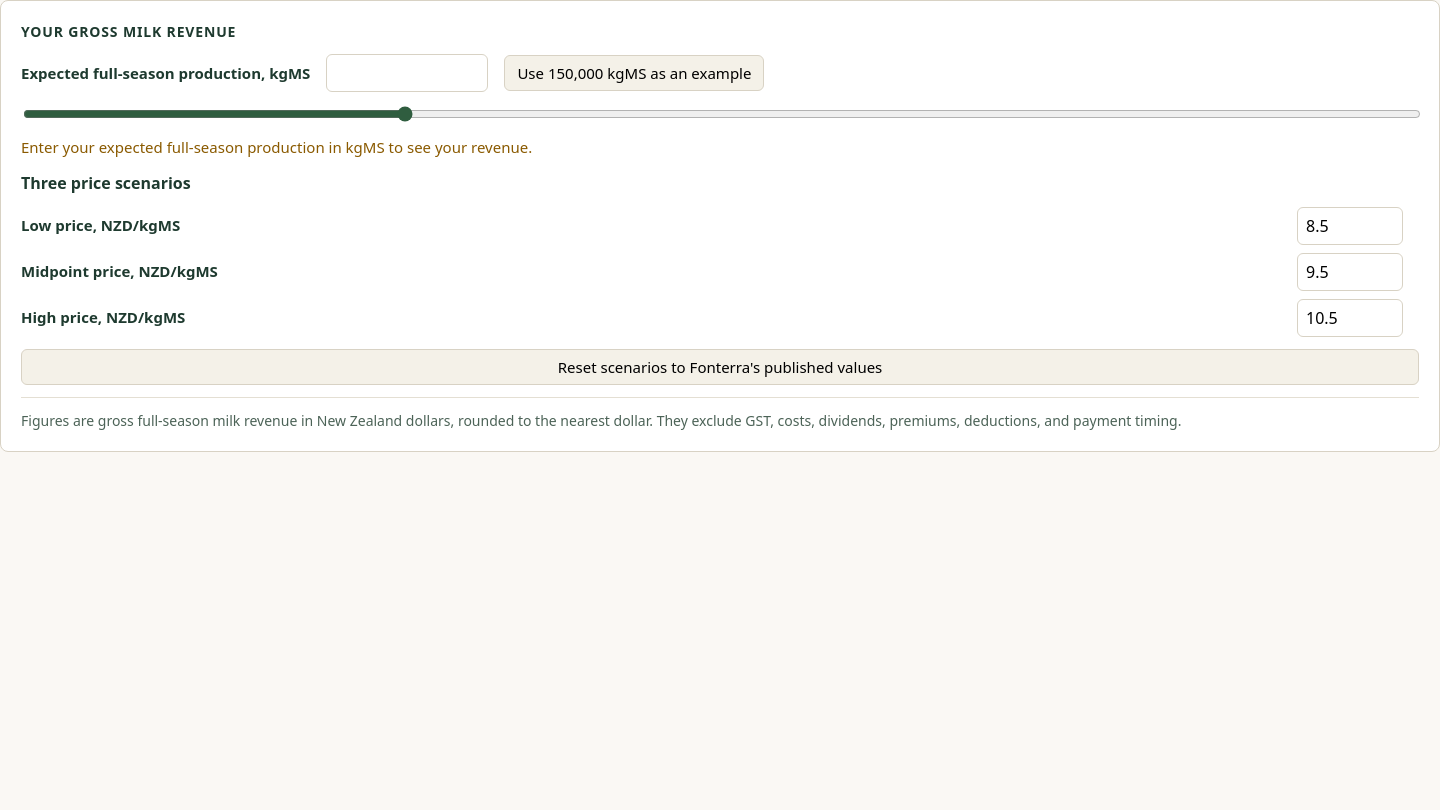
it: RevenuePanel › fills production from the explicit example action
The width and height of the screenshot is (1440, 810).
Click the button "Use 150,000 kgMS as an example" at (634, 73), box [504,55,764,91]
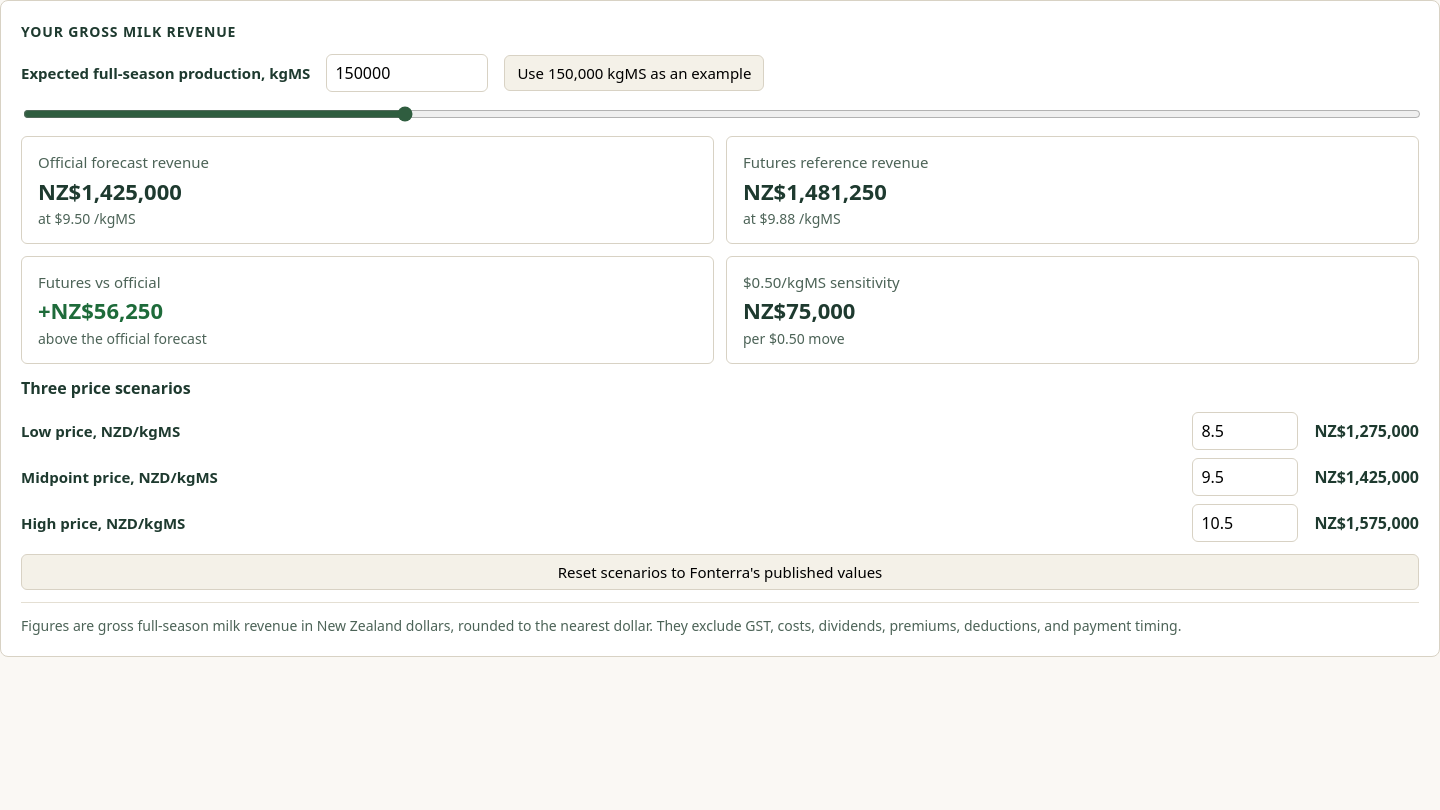
Result: the field labelled "Expected full-season production, kgMS" holds "150000" at [326,54,488,92]
Result: the text "NZ$1,425,000" below "Official forecast revenue" is shown at [38,176,182,206]
